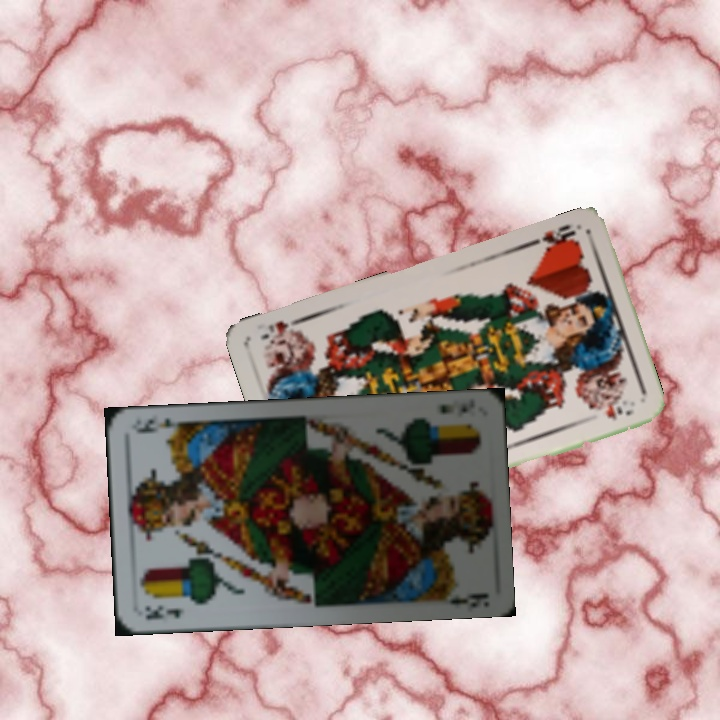EK: (140, 601, 187, 623), (435, 396, 477, 416)
HO: (537, 220, 581, 255)
